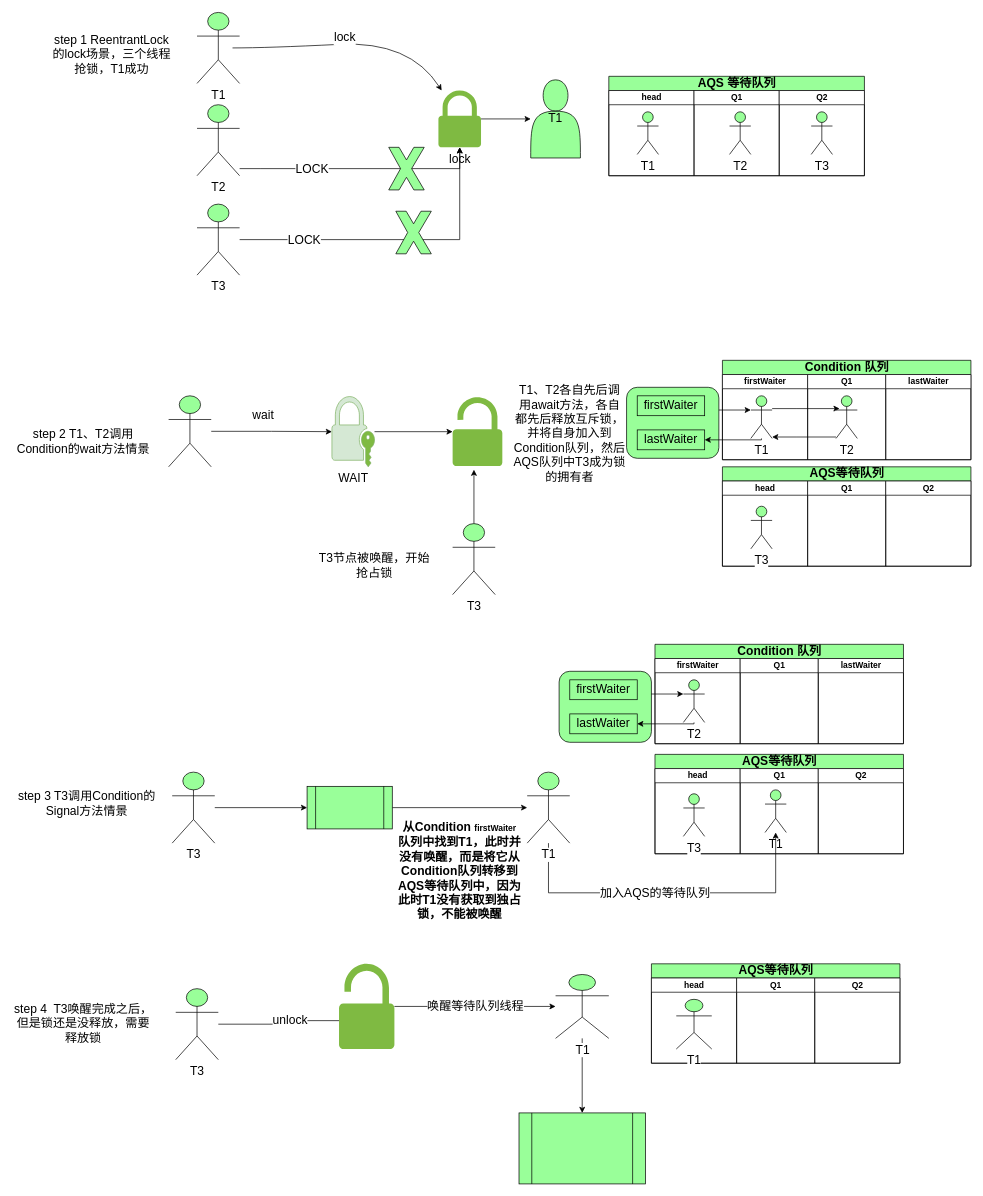
Image size: 983x1196. Some labels were removed from this diagram. The centre of each missing label's shape, as x and y in pixels:
signal: (x=349, y=807)
T1 + T2: (x=189, y=431)
唤醒第二步wait方法，然后继续执行下面逻辑: (x=581, y=1148)
释放了锁: (x=477, y=431)
